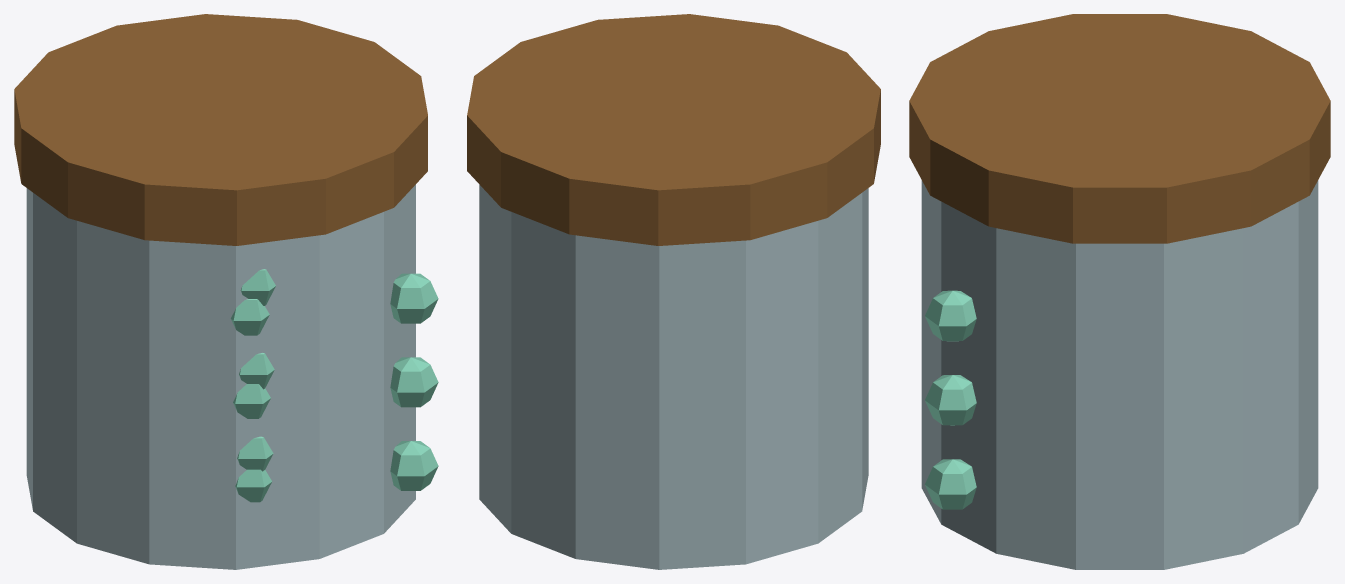
File: bait-glow.glb
3 views of the same model, side by side, from view 1: azimuth 30°, elevation 25°; view 2: azimuth 150°, elevation 25°; view 3: azimuth 270°, elevation 25° (orthographic).
Parts seen in each view (by area): view 1: bait-glow; view 2: bait-glow; view 3: bait-glow.
Part boxes in pixels (x1,y1,x2,y2): bait-glow: (14, 14, 438, 569); bait-glow: (467, 14, 880, 569); bait-glow: (909, 14, 1330, 569).
Bounding box in the file's own units: 0.663 × 0.69 × 0.68.
